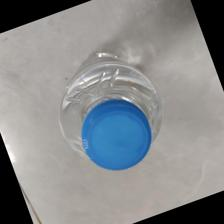Lavie: (49, 47, 178, 176)
